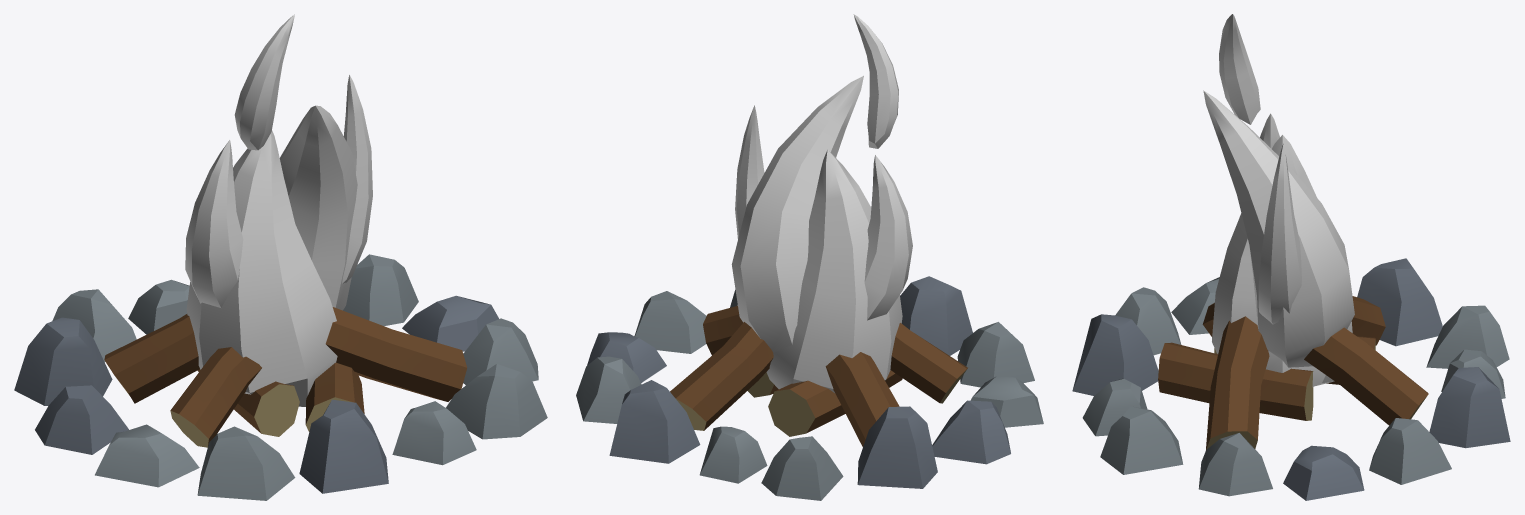
The model's file is Bonfire_Lit.gltf.
The picture shows the model from 3 angles, left to right: view 1: azimuth 30°, elevation 25°; view 2: azimuth 150°, elevation 25°; view 3: azimuth 270°, elevation 25°; orthographic projection. The views are drawn at different scales.
Visible parts, largest first — view 1: Bonfire_Lit; view 2: Bonfire_Lit; view 3: Bonfire_Lit.
Part boxes in pixels (left/top/right/bottom): Bonfire_Lit: left=14, top=14, right=547, bottom=500; Bonfire_Lit: left=576, top=14, right=1043, bottom=500; Bonfire_Lit: left=1072, top=14, right=1510, bottom=500.
Bounding box in the file's own units: 0.4066 × 0.3528 × 0.3624.
